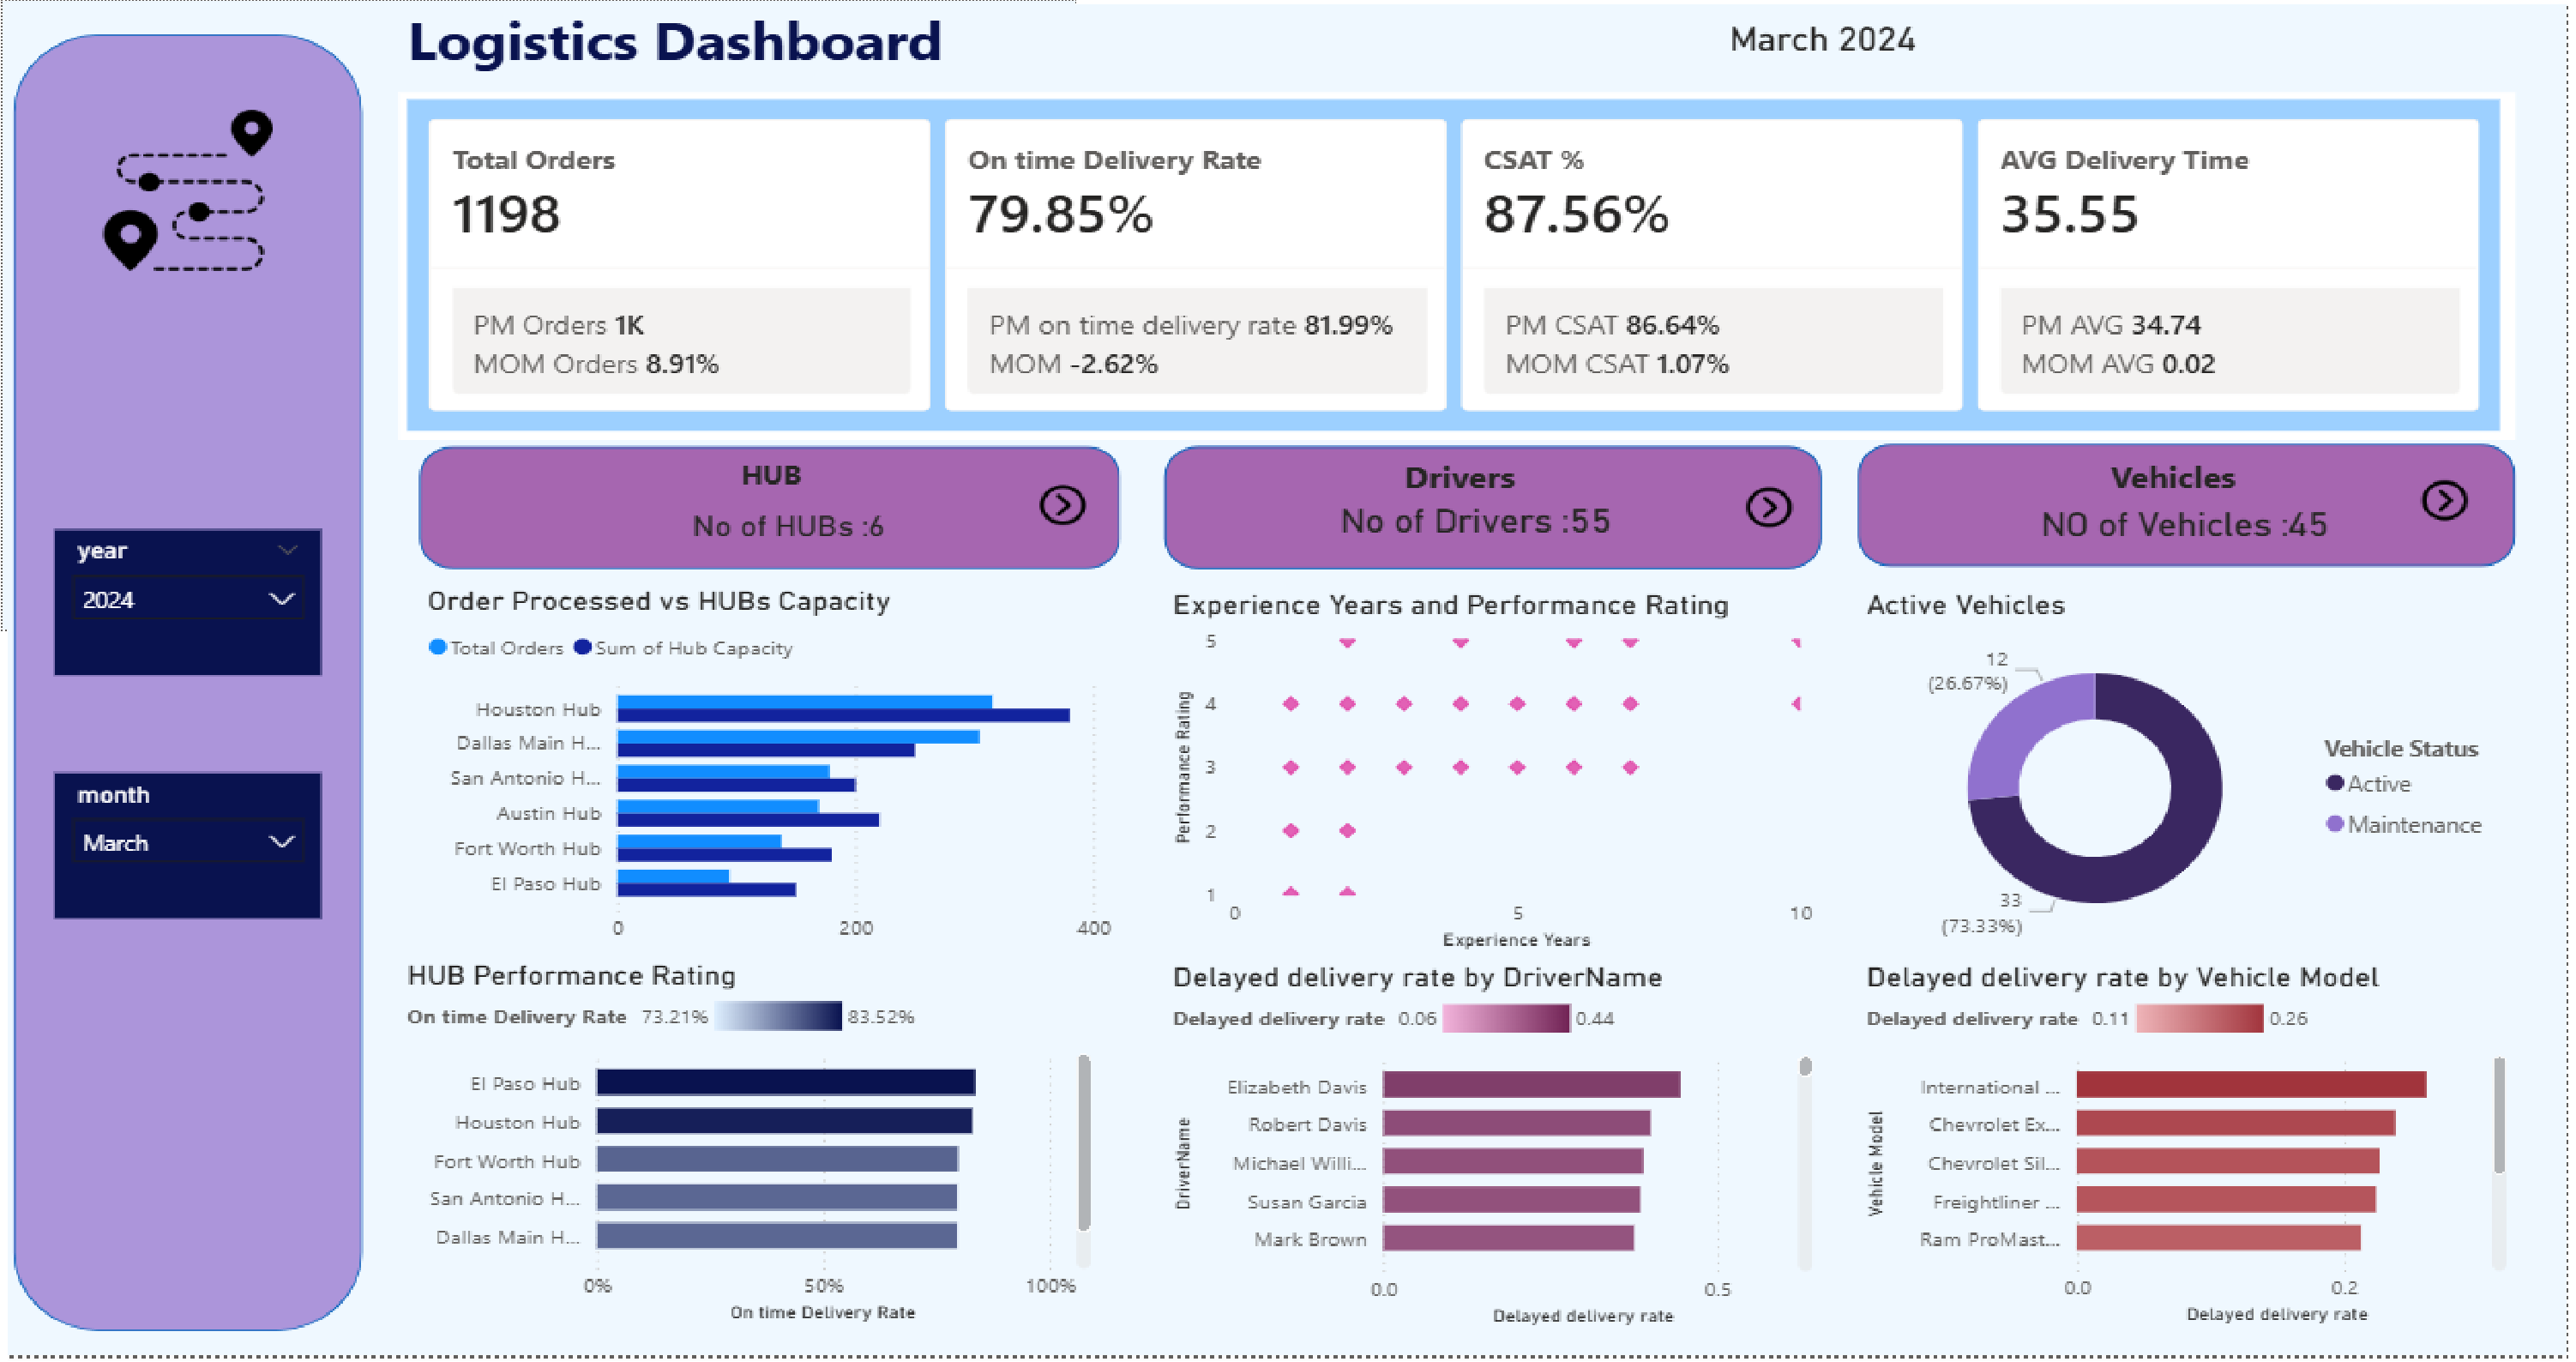

This screenshot's page, from the dashboard's own definition file:
{"tool":"powerbi","page":{"name":"Dashboard","canvas":[1450,850],"ordinal":0},"visuals":[{"type":"shape","box":[9.7,22.6,196.8,811.3],"z":0},{"type":"textbox","box":[227.4,0,375.2,59.4],"z":1000},{"type":"cardVisual","fields":{"Data":["Orders.Total Orders","Orders.On time Delivery Rate","Orders.CSAT %","Orders.AVG Delivery Time"]},"box":[227.4,59.4,1193.6,217.3],"z":2000},{"type":"slicer","fields":{"Values":["date tabel.year"]},"box":[33.3,333.2,150.6,91.3],"z":3000},{"type":"slicer","fields":{"Values":["date tabel.month"]},"box":[33.3,485.3,150.6,91.3],"z":4000},{"type":"shape","box":[1050.2,279.6,370.8,76.8],"z":5000},{"type":"shape","box":[659.1,281,370.8,76.8],"z":6000},{"type":"shape","box":[239,281,395.5,76.8],"z":7000},{"type":"textbox","box":[381,282.5,113,37.7],"z":8000},{"type":"card","fields":{"Values":["Hubs.NO hubs"]},"box":[370.8,311.4,153.5,39.1],"z":9000},{"type":"clusteredBarChart","title":"Order Processed vs HUBs Capacity","fields":{"Category":["Hubs.HubName"],"Y":["Orders.Total Orders","Sum(Hubs.Hub Capacity)"]},"box":[239,367.9,395.5,233.2],"z":10000},{"type":"clusteredBarChart","title":"HUB Performance Rating","fields":{"Category":["Hubs.HubName"],"Y":["Orders.On time Delivery Rate"]},"box":[227.4,601.1,395.5,233.2],"z":11000},{"type":"textbox","box":[789.5,282.5,108.6,57.9],"z":12000},{"type":"card","fields":{"Values":["Drivers.NO of dri"]},"box":[669.2,301.3,331.7,52.1],"z":13000},{"type":"scatterChart","fields":{"Y":["Drivers.Performance Rating"],"X":["Drivers.Experience Years"]},"box":[659.1,369.4,370.8,231.8],"z":14000},{"type":"clusteredBarChart","fields":{"Category":["Drivers.DriverName"],"Y":["Orders.Delayed delivery rate"]},"box":[659.1,602.6,370.8,233.2],"z":15000},{"type":"card","fields":{"Values":["Vehicles.No veh"]},"box":[1069,304.2,331.7,52.1],"z":16000},{"type":"textbox","box":[1187.8,282.5,97.1,59.4],"z":17000},{"type":"donutChart","title":"Active Vehicles","fields":{"Category":["Vehicles.Vehicle Status"],"Y":["CountNonNull(Vehicles.Vehicle ID)"]},"box":[1050,369,371,232],"z":18000},{"type":"clusteredBarChart","fields":{"Category":["Vehicles.Vehicle Model"],"Y":["Orders.Delayed delivery rate"]},"box":[1050,603,371,233],"z":19000},{"type":"card","fields":{"Values":["Orders.year month value"]},"box":[864.8,0,331.7,52.1],"z":20000},{"type":"image","box":[582.3,304.2,39.1,27.5],"z":21000},{"type":"image","box":[980.7,305.6,39.1,27.5],"z":22000},{"type":"image","box":[1361.6,301.3,39.1,27.5],"z":23000},{"type":"image","box":[55,59.4,107.2,123.1],"z":24000}]}

Visuals, with their boxes on the page's 1450x850 design canvas (x1, y1, x2, y2). These are canvas units, not pixel positions in the 2576x1362 screenshot, which may show the page scaled, cropped or inside an application window:
shape: x1=10 y1=23 x2=206 y2=834
textbox: x1=227 y1=0 x2=603 y2=59
cardVisual - Orders.Total Orders x Orders.On time Delivery Rate: x1=227 y1=59 x2=1421 y2=277
slicer - date tabel.year: x1=33 y1=333 x2=184 y2=424
slicer - date tabel.month: x1=33 y1=485 x2=184 y2=577
shape: x1=1050 y1=280 x2=1421 y2=356
shape: x1=659 y1=281 x2=1030 y2=358
shape: x1=239 y1=281 x2=634 y2=358
textbox: x1=381 y1=282 x2=494 y2=320
card - Hubs.NO hubs: x1=371 y1=311 x2=524 y2=350
"Order Processed vs HUBs Capacity" clusteredBarChart: x1=239 y1=368 x2=634 y2=601
"HUB Performance Rating" clusteredBarChart: x1=227 y1=601 x2=623 y2=834
textbox: x1=790 y1=282 x2=898 y2=340
card - Drivers.NO of dri: x1=669 y1=301 x2=1001 y2=353
scatterChart - Drivers.Performance Rating x Drivers.Experience Years: x1=659 y1=369 x2=1030 y2=601
clusteredBarChart - Drivers.DriverName x Orders.Delayed delivery rate: x1=659 y1=603 x2=1030 y2=836
card - Vehicles.No veh: x1=1069 y1=304 x2=1401 y2=356
textbox: x1=1188 y1=282 x2=1285 y2=342
"Active Vehicles" donutChart: x1=1050 y1=369 x2=1421 y2=601
clusteredBarChart - Vehicles.Vehicle Model x Orders.Delayed delivery rate: x1=1050 y1=603 x2=1421 y2=836
card - Orders.year month value: x1=865 y1=0 x2=1196 y2=52
image: x1=582 y1=304 x2=621 y2=332
image: x1=981 y1=306 x2=1020 y2=333
image: x1=1362 y1=301 x2=1401 y2=329
image: x1=55 y1=59 x2=162 y2=182
